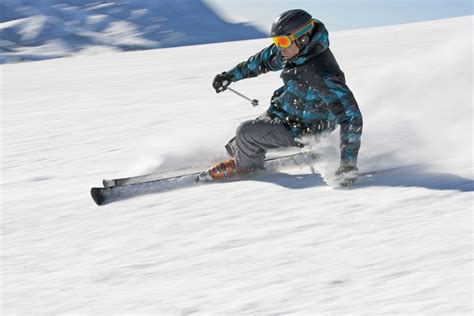skier: (77, 8, 452, 233)
